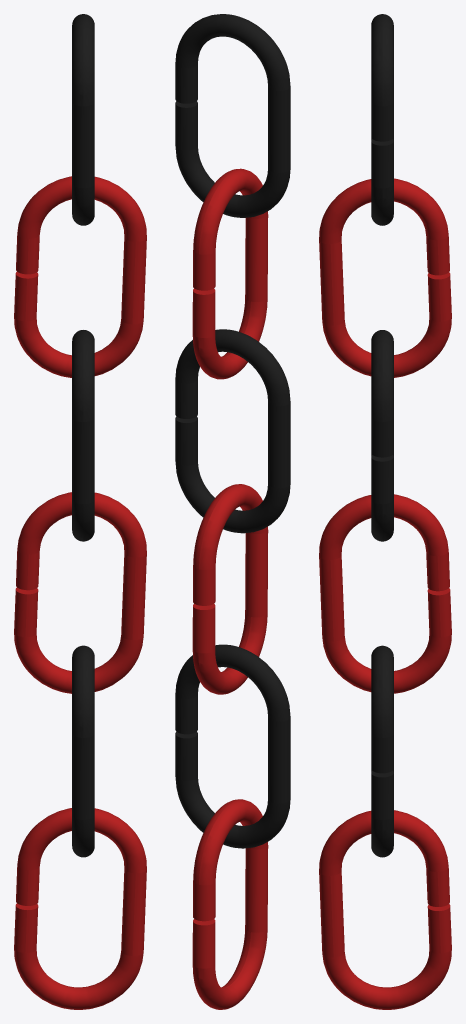
Rendered from CORRENTEe.glb.
3 renders of one model, left to right at view 1: azimuth 90°, elevation 25°; view 2: azimuth 150°, elevation 25°; view 3: azimuth 270°, elevation 25°, orthographic.
Parts seen in each view (by area): view 1: empty_5, empty_3, empty_4, empty_6, empty_7, empty_2; view 2: empty_2, empty_6, empty_7, empty_5, empty_4, empty_3; view 3: empty_5, empty_4, empty_3, empty_6, empty_2, empty_7.
Boxes of the visible parts, x1,y1,x2,y2 form: empty_5: (14, 808, 146, 1009); empty_3: (14, 176, 146, 377); empty_4: (14, 492, 146, 693); empty_6: (72, 330, 94, 541); empty_7: (72, 645, 94, 857); empty_2: (72, 14, 94, 225); empty_2: (175, 14, 290, 217); empty_6: (175, 329, 290, 533); empty_7: (175, 644, 290, 848); empty_5: (192, 799, 268, 1009); empty_4: (192, 484, 268, 694); empty_3: (192, 168, 268, 379); empty_5: (319, 810, 451, 1009); empty_4: (319, 494, 451, 693); empty_3: (319, 178, 451, 377); empty_6: (371, 330, 393, 541); empty_2: (371, 14, 393, 225); empty_7: (371, 645, 393, 857).
Size of the model in its own units: 28.69 by 241 by 29.38.
